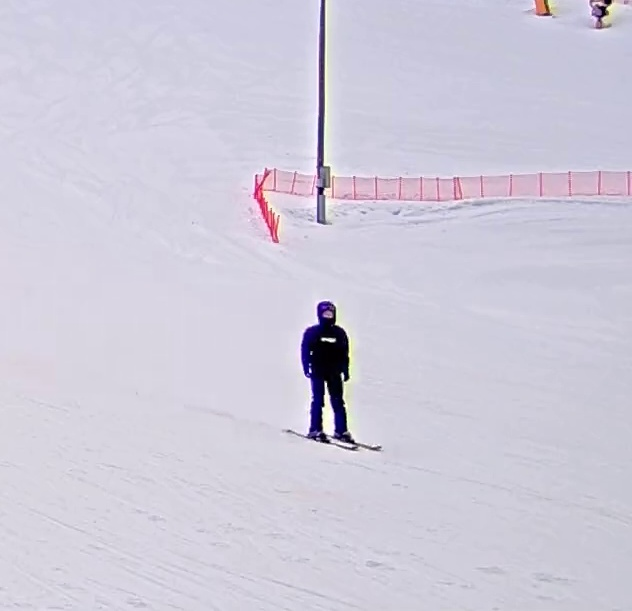skier: (280, 298, 385, 456)
